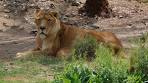lion: (29, 10, 121, 57)
